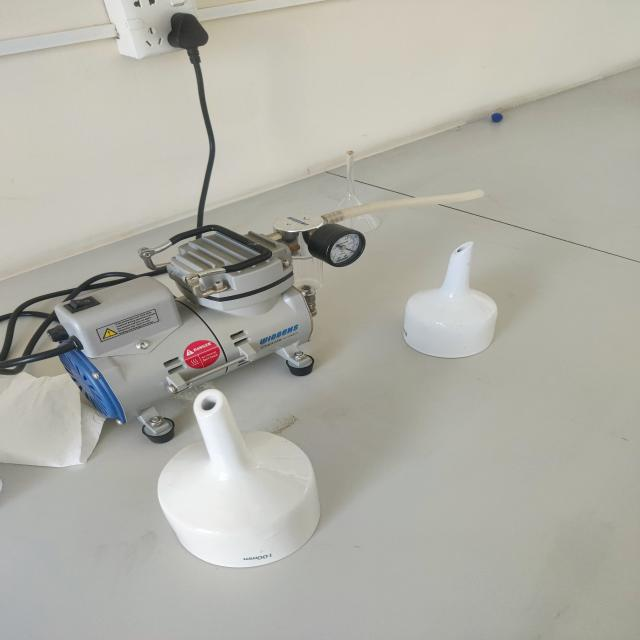Buchner_Funnel: (110, 364, 360, 583), (387, 213, 528, 375)
